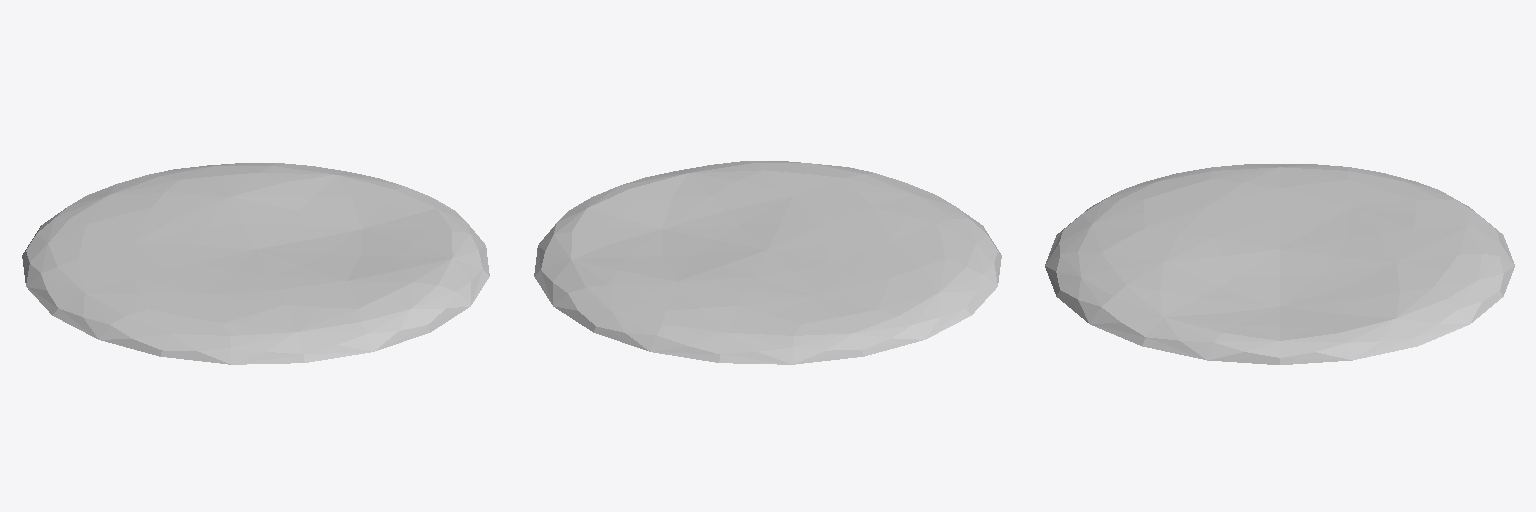
The model's file is plant_soil.obj.
3 views of the same model, side by side, from view 1: azimuth 30°, elevation 25°; view 2: azimuth 150°, elevation 25°; view 3: azimuth 270°, elevation 25° (orthographic).
Parts seen in each view (by area): view 1: Soil_small; view 2: Soil_small; view 3: Soil_small.
Part boxes in pixels (left/top/right/bottom): Soil_small: left=22, top=163, right=489, bottom=364; Soil_small: left=534, top=161, right=1001, bottom=364; Soil_small: left=1045, top=164, right=1514, bottom=364.
Size of the model in its own units: 0.1466 by 0.0069 by 0.1467.